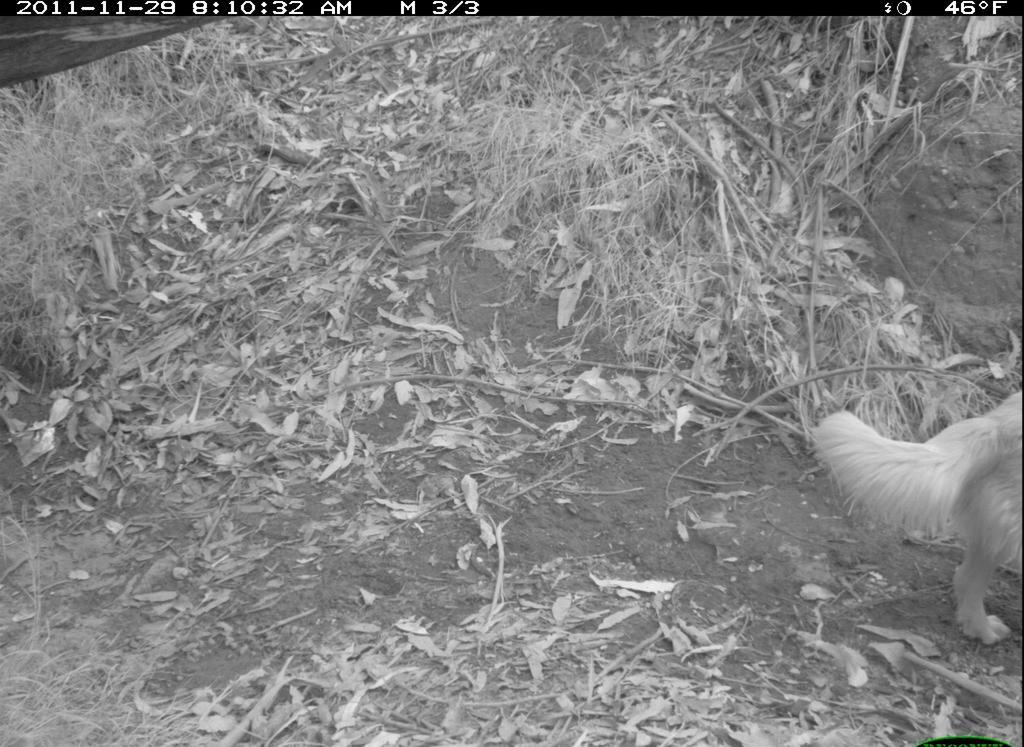dog: (801, 354, 1022, 658)
